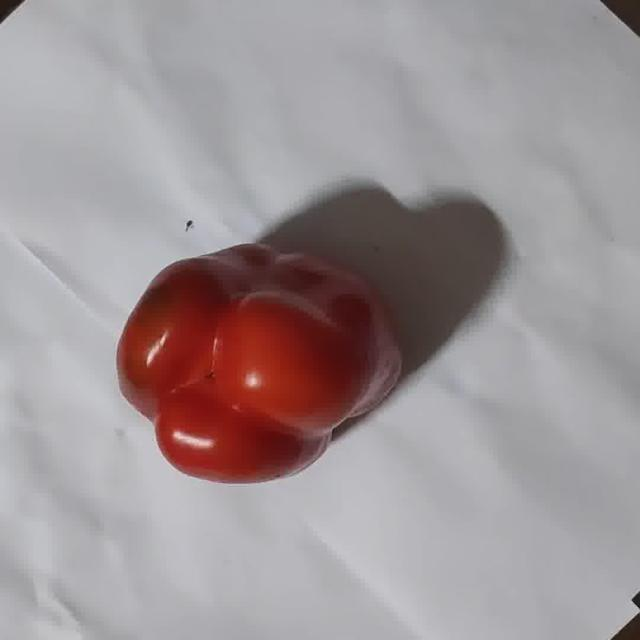Bell Pepper: (117, 244, 402, 482)
